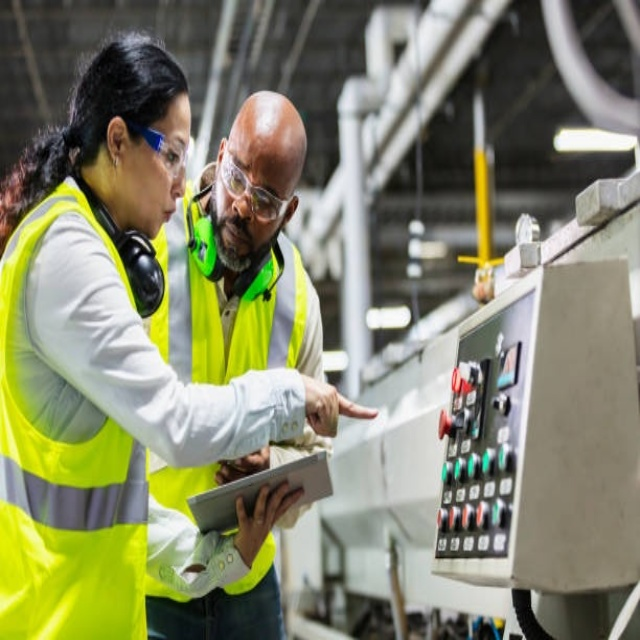Gafas: (219, 142, 294, 222), (126, 121, 190, 176)
Sin_guantes: (233, 478, 305, 565), (299, 375, 381, 441), (214, 445, 269, 484)
Sin_mascara: (219, 216, 251, 268), (147, 196, 181, 235)
